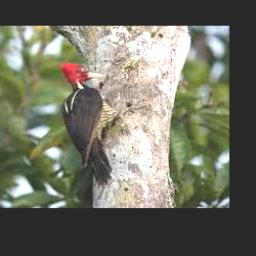Woodpecker: (59, 62, 147, 185)
